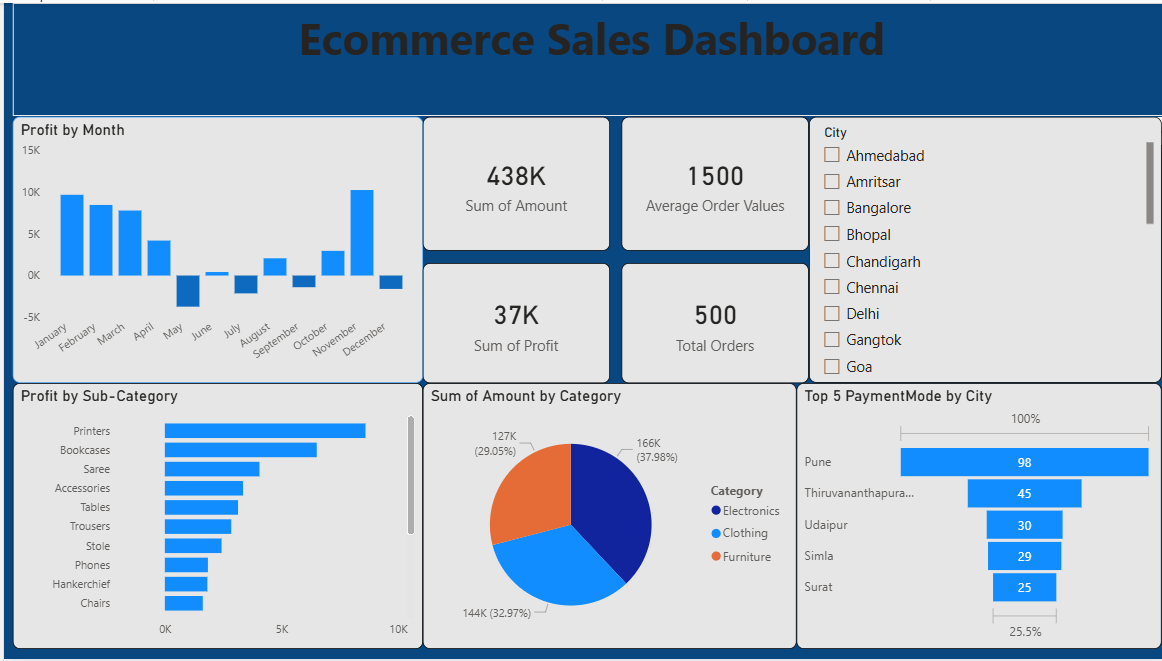

The page's visual inventory and layout, read from the dashboard file:
{"tool":"powerbi","page":{"name":"Dashboard","canvas":[1280,720],"ordinal":0},"visuals":[{"type":"textbox","box":[9.6,0,1270.7,123],"z":0},{"type":"columnChart","title":"Profit by Month","fields":{"Category":["Orders.Order Date.Variation.Date Hierarchy.Month"],"Y":["Sum(Details.Profit)"]},"box":[9.6,124.9,450.1,292.3],"z":1000},{"type":"barChart","title":"Profit by Sub-Category","fields":{"Category":["Details.Sub-Category"],"Y":["Sum(Details.Profit)"]},"box":[9.6,417.2,450.1,292.3],"z":2000},{"type":"pieChart","fields":{"Category":["Details.Category"],"Y":["Sum(Details.Amount)"]},"box":[459.7,417.2,410.3,292.3],"z":3000},{"type":"funnel","title":"Top 5 PaymentMode by City","fields":{"Category":["Orders.City"],"Y":["CountNonNull(Details.PaymentMode)"]},"box":[870,417.2,400.7,292.3],"z":4000},{"type":"card","fields":{"Values":["Sum(Details.Amount)"]},"box":[459.7,124.9,205.8,146.8],"z":5000},{"type":"card","fields":{"Values":["Sum(Details.Profit)"]},"box":[459.7,285.4,205.8,131.7],"z":6000},{"type":"card","fields":{"Values":["CountNonNull(Details.AOV)"]},"box":[677.9,124.9,205.8,146.8],"z":7000},{"type":"card","fields":{"Values":["CountNonNull(Orders.Order ID)"]},"box":[677.9,285.4,205.8,131.7],"z":8000},{"type":"slicer","fields":{"Values":["Orders.City"]},"box":[883.7,124.9,387,292.3],"z":8001}]}

Visuals, with their boxes in screenshot pixels (x1, y1, x2, y2), scaled from the page's 1280x720 canvas onto the 1162x661 screenshot:
textbox: select_region(9, 0, 1161, 113)
"Profit by Month" columnChart: select_region(9, 115, 417, 383)
"Profit by Sub-Category" barChart: select_region(9, 383, 417, 651)
pieChart - Details.Category x Sum(Details.Amount): select_region(417, 383, 790, 651)
"Top 5 PaymentMode by City" funnel: select_region(790, 383, 1154, 651)
card - Sum(Details.Amount): select_region(417, 115, 604, 249)
card - Sum(Details.Profit): select_region(417, 262, 604, 383)
card - CountNonNull(Details.AOV): select_region(615, 115, 802, 249)
card - CountNonNull(Orders.Order ID): select_region(615, 262, 802, 383)
slicer - Orders.City: select_region(802, 115, 1154, 383)
